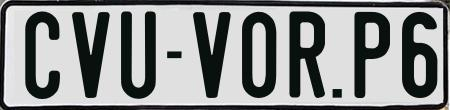0: (240, 12, 276, 100)
6: (400, 9, 436, 96)
C: (23, 10, 64, 100)
P: (352, 11, 393, 100)
R: (287, 9, 326, 98)
U: (121, 8, 157, 97)
V: (71, 10, 115, 97), (191, 9, 230, 100)
